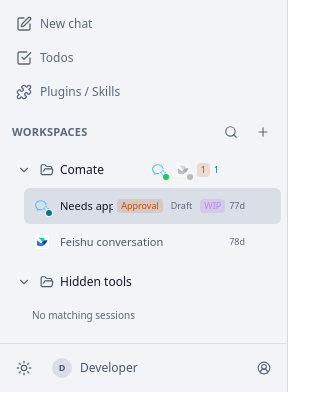
Test: AgentCommandCenter › shows read-only provider usage above Analytics in the user account menu
Click the button with aria-label "User account" at [162, 368], box x1=44 y1=352 x2=279 y2=384
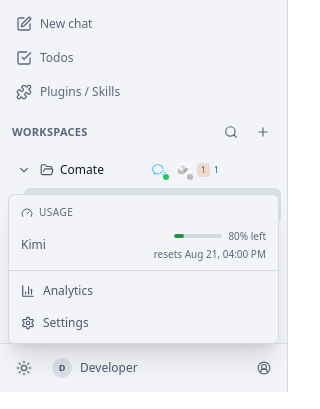
Check: the element with test id "menu-usage-row-p2" shows "Kimi", box x1=21 y1=236 x2=46 y2=253
Check: the element with test id "menu-usage-row-p2" shows "80% left", box x1=228 y1=229 x2=266 y2=243
